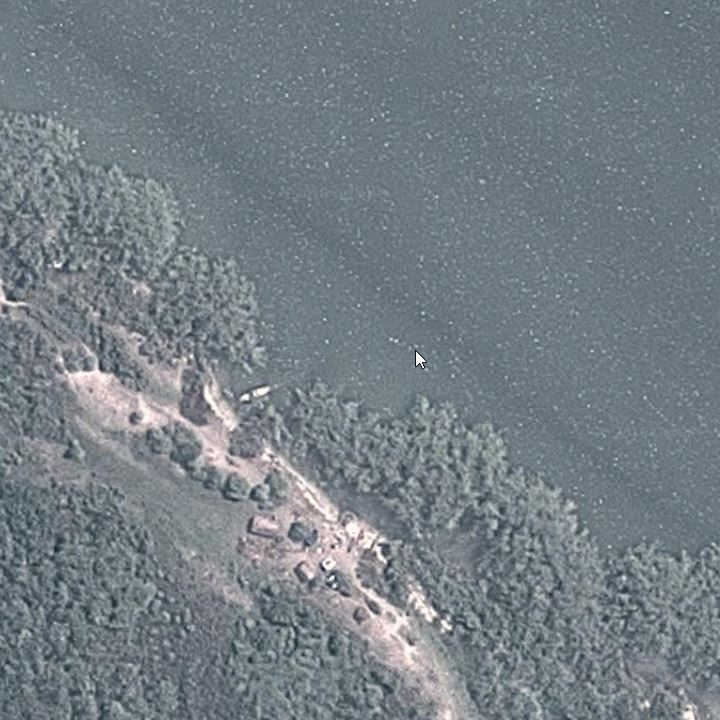boat: (228, 377, 293, 407)
